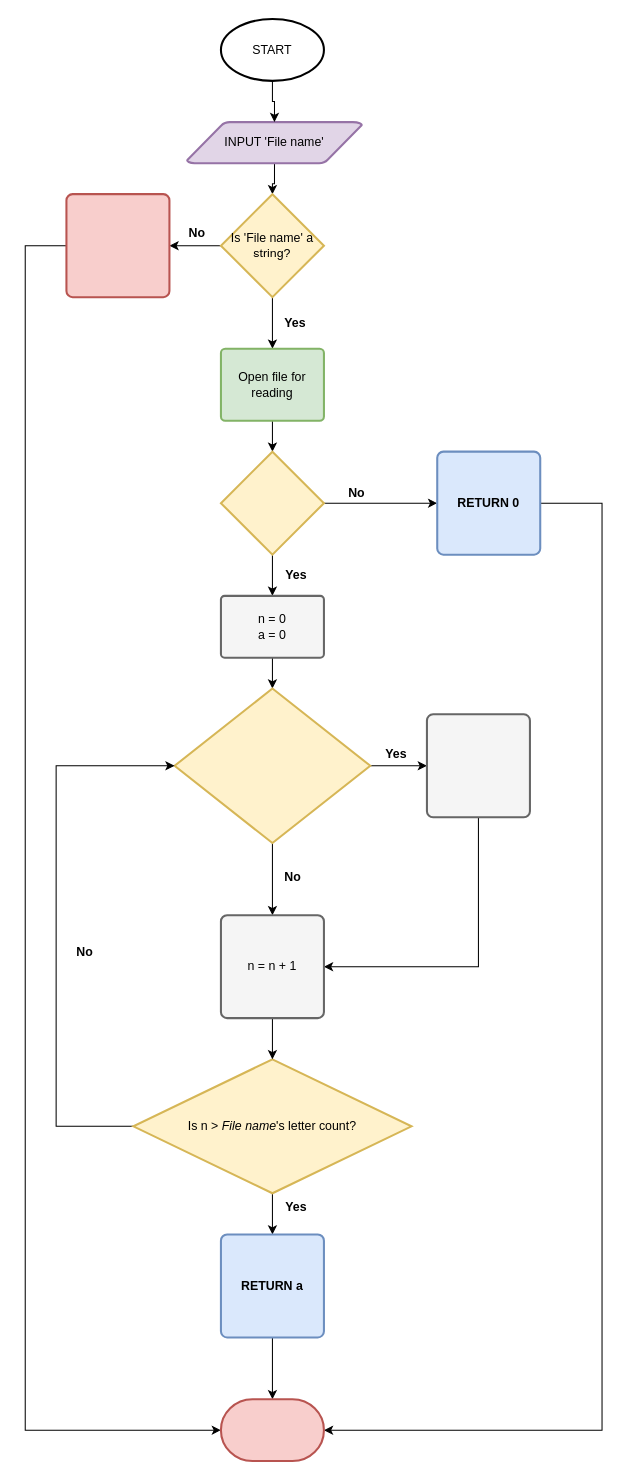
Image size: 628x1479. Some labels were removed from this diagram. The shapes that lost their labels are listed below. From the top down, each one's centre as x and y in pixels, then its label:
At [117,245]: "Raise TypeError: 'Please input filename as string'".
At [271,502]: "File found?".
At [272,765]: "Is File name 's nth letter 'a'?".
At [477,765]: "a = a+1".
At [271,1430]: "END".
